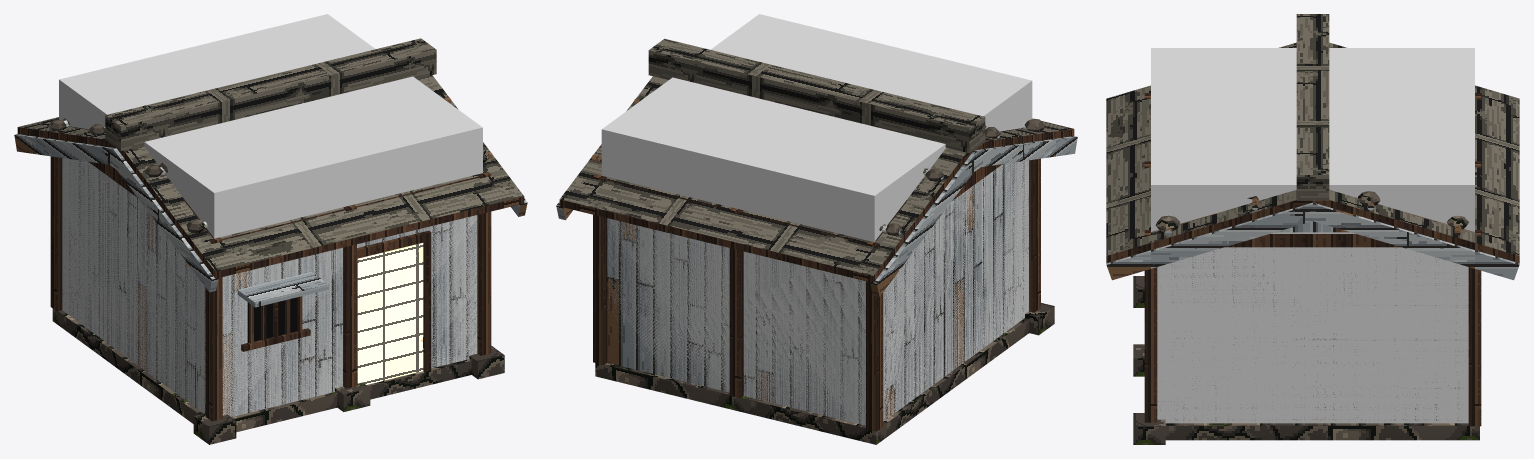
File: JP_Poor_Hut_A.glb
3 renders of one model, left to right at view 1: azimuth 30°, elevation 25°; view 2: azimuth 150°, elevation 25°; view 3: azimuth 270°, elevation 25°, orthographic. The views are drawn at different scales.
Visible parts, largest first — view 1: JP_Poor_Hut_A, COL_JP_Poor_Hut_A; view 2: COL_JP_Poor_Hut_A, JP_Poor_Hut_A; view 3: COL_JP_Poor_Hut_A, JP_Poor_Hut_A.
Boxes of the visible parts, x1,y1,x2,y2 form: JP_Poor_Hut_A: (14,38,527,444); COL_JP_Poor_Hut_A: (59,14,482,416); COL_JP_Poor_Hut_A: (601,14,1032,425); JP_Poor_Hut_A: (556,38,1077,444); COL_JP_Poor_Hut_A: (1151,48,1474,423); JP_Poor_Hut_A: (1106,14,1519,444).
Size of the model in its own units: 4.7 by 3.75 by 5.1.
7 materials, 7 textured.
